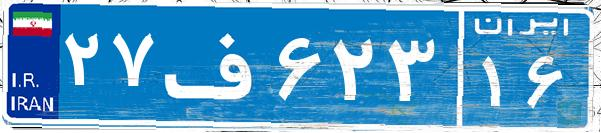1: (475, 38, 525, 113)
2: (330, 28, 385, 110), (57, 26, 110, 107)
3: (385, 28, 445, 110)
6: (273, 28, 330, 110), (525, 38, 570, 115)
7: (110, 28, 158, 105)
ف: (158, 15, 273, 115)
